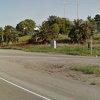Tree: (21, 11, 83, 51)
